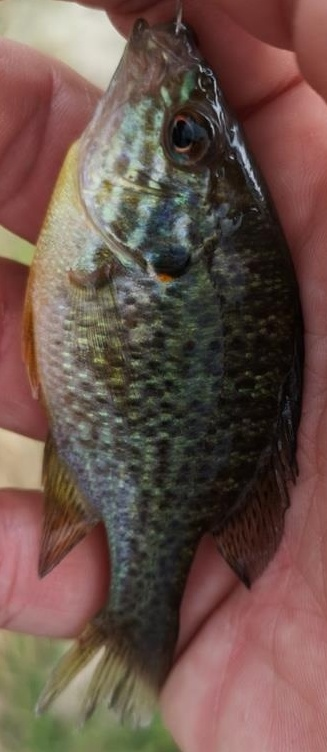Lepomis gibbosus: (20, 20, 307, 732)
